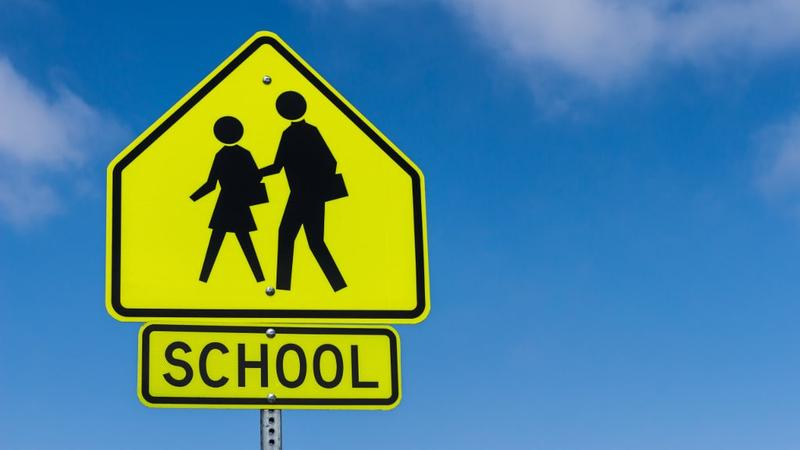slow: (102, 27, 434, 326)
